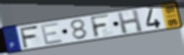4: (146, 7, 162, 30)
8: (70, 19, 89, 41)
E: (39, 21, 64, 46)
F: (89, 13, 111, 39), (18, 24, 40, 49)
H: (116, 8, 145, 35)
